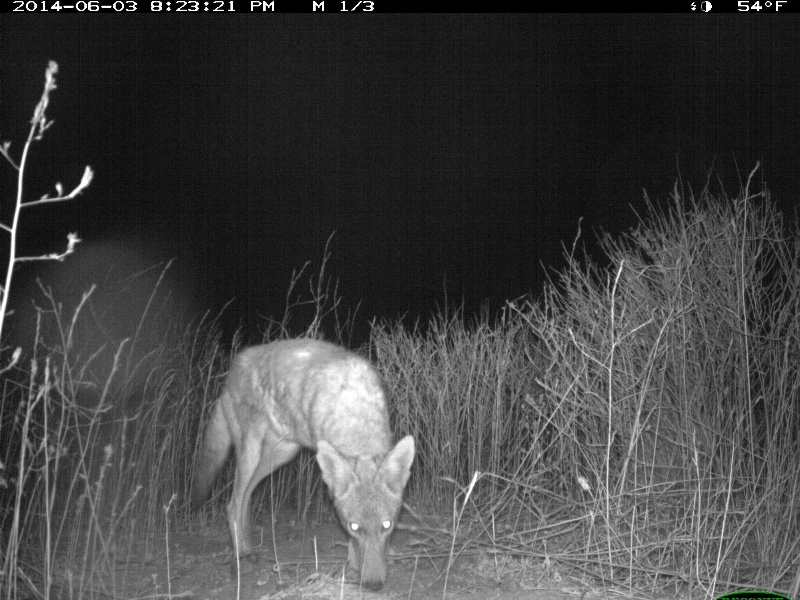coyote: (186, 333, 418, 593)
